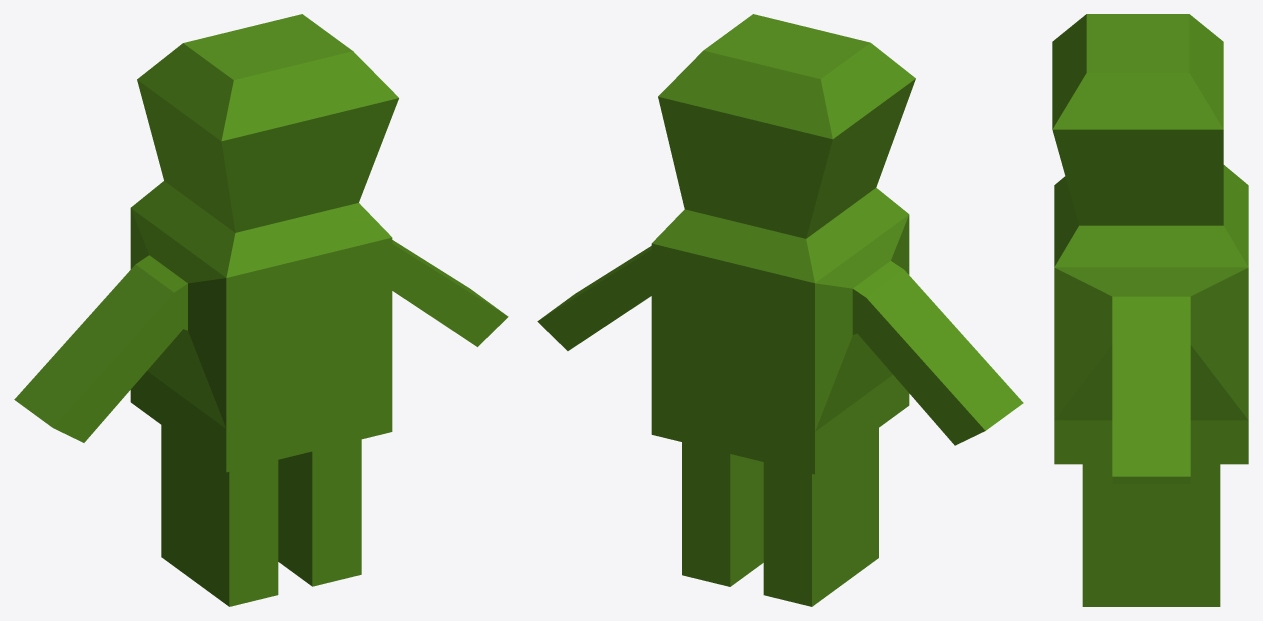
The model's file is ogre.fbx.
3 renders of one model, left to right at view 1: azimuth 30°, elevation 25°; view 2: azimuth 150°, elevation 25°; view 3: azimuth 270°, elevation 25°, orthographic. The views are drawn at different scales.
Parts seen in each view (by area): view 1: Ogre; view 2: Ogre; view 3: Ogre.
Boxes of the visible parts, x1,y1,x2,y2 form: Ogre: [14, 14, 508, 606]; Ogre: [537, 14, 1023, 606]; Ogre: [1052, 14, 1248, 606].
Bounding box in the file's own units: 549 × 603 × 202.
